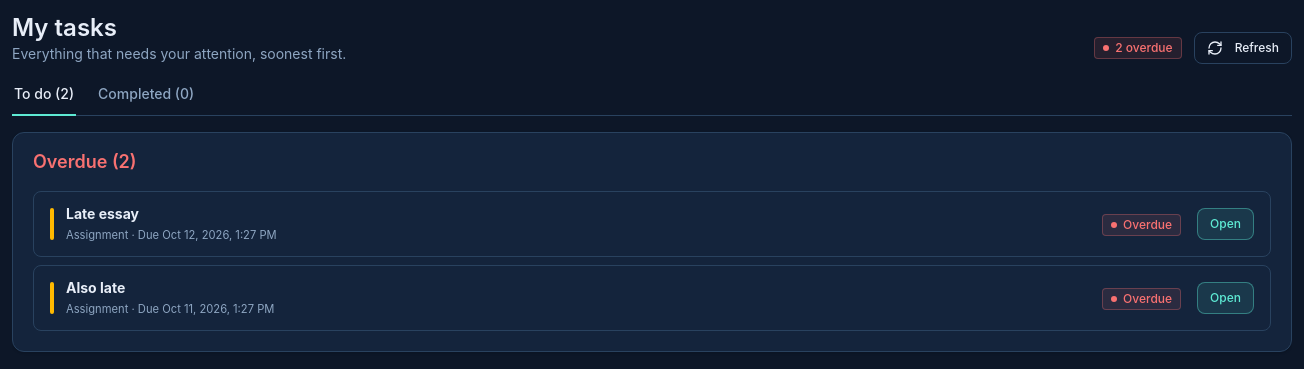
Test: MyTasksPage › flags how much is overdue and refreshes on request
The width and height of the screenshot is (1304, 369).
Expected: the text "2 overdue" is shown, top-left (1094, 37), bottom-right (1182, 59)
Expected: the heading "Overdue (2)" is shown, top-left (33, 151), bottom-right (136, 172)
Click the button "Refresh": (1243, 48) top-left (1194, 32), bottom-right (1292, 64)
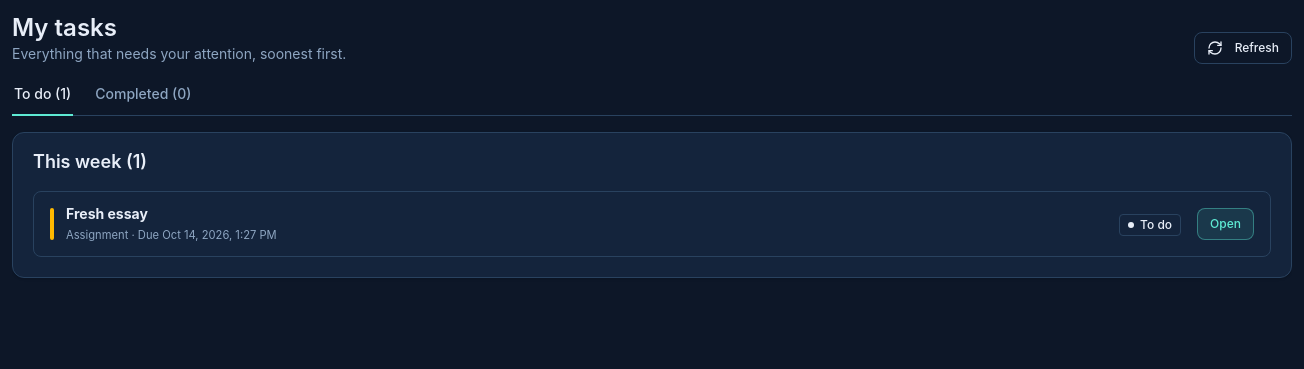
Expected: the text "Fresh essay" is shown, top-left (66, 205), bottom-right (148, 222)
Expected: the text "2 overdue" is gone
